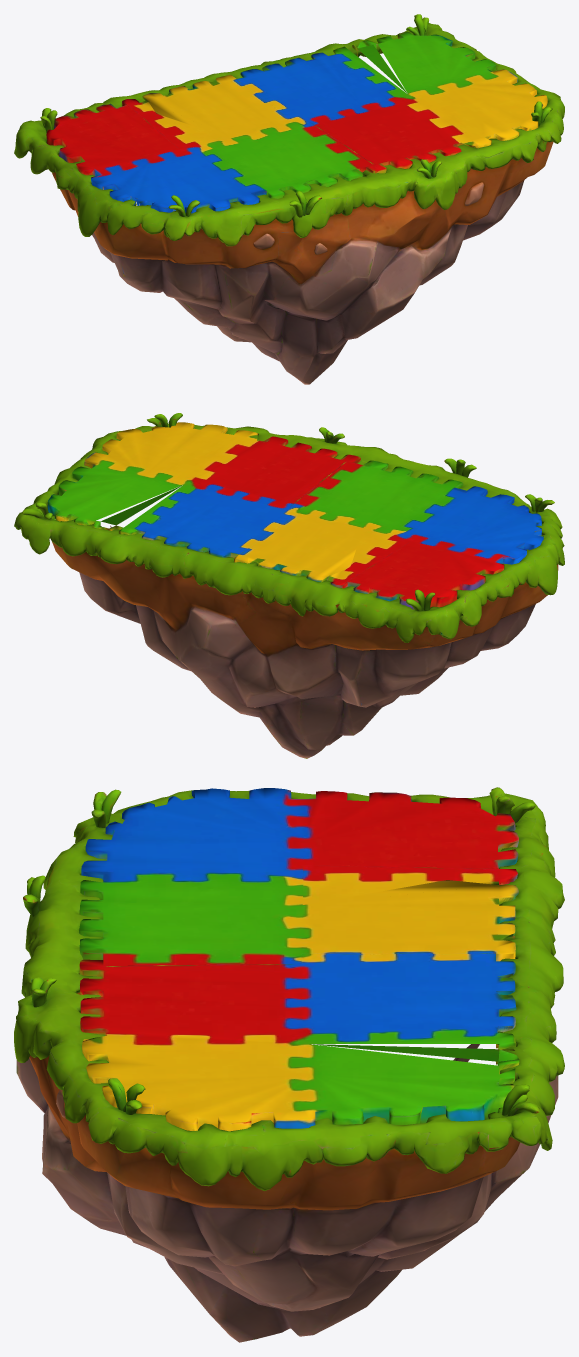
The model's file is playmat_island.glb.
The picture shows the model from 3 angles, top to bottom: view 1: azimuth 30°, elevation 25°; view 2: azimuth 150°, elevation 25°; view 3: azimuth 270°, elevation 25°; orthographic projection. The views are drawn at different scales.
Size of what is drawn, in the model's own units: 1.89 by 1 by 1.2.
Materials: 1 (1 with a texture image).
